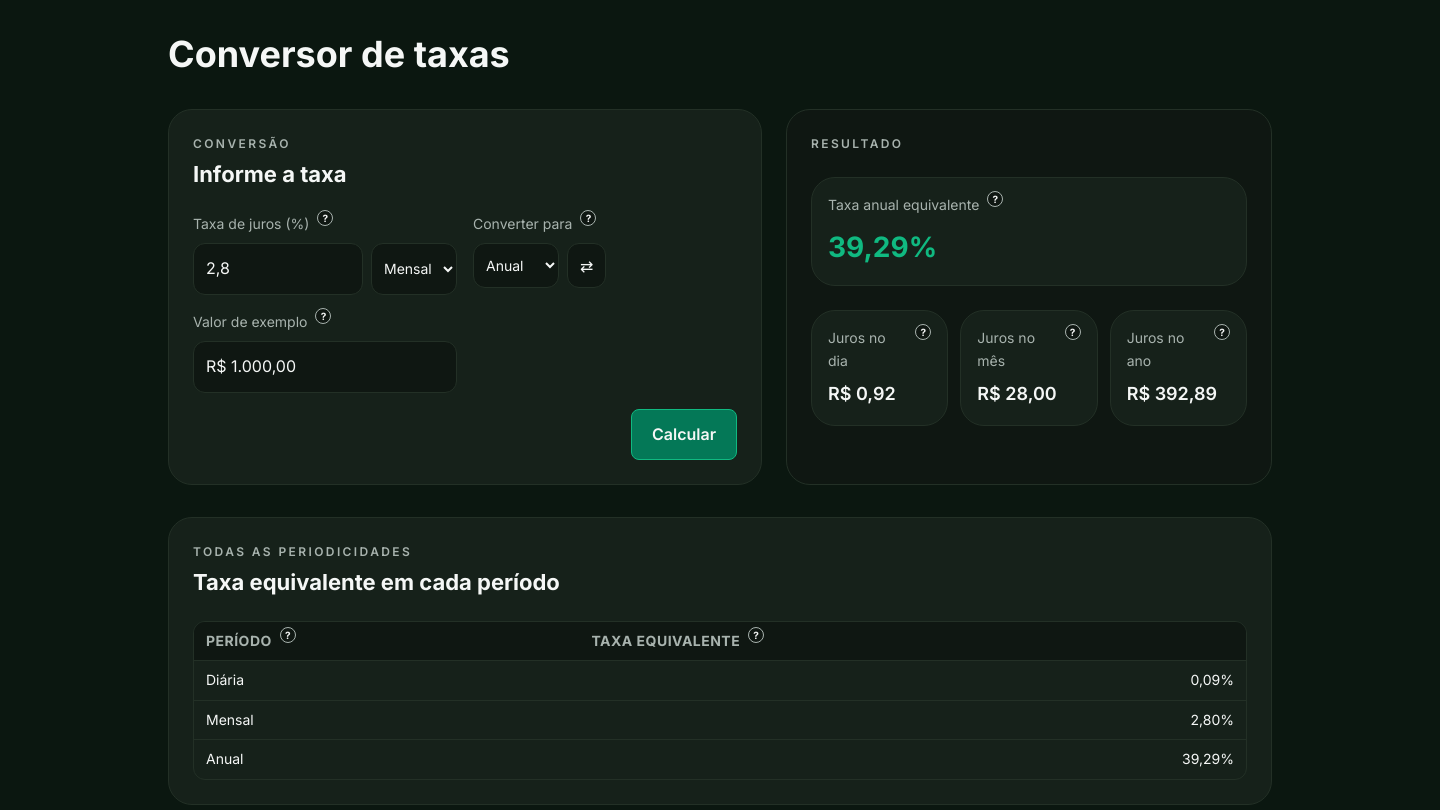
Test: RateConverter › updates example interest amounts only after clicking Calcular
Replace the text in the field labelled "Valor de exemplo" with "200000": [325, 367] box top-left (193, 341), bottom-right (457, 393)
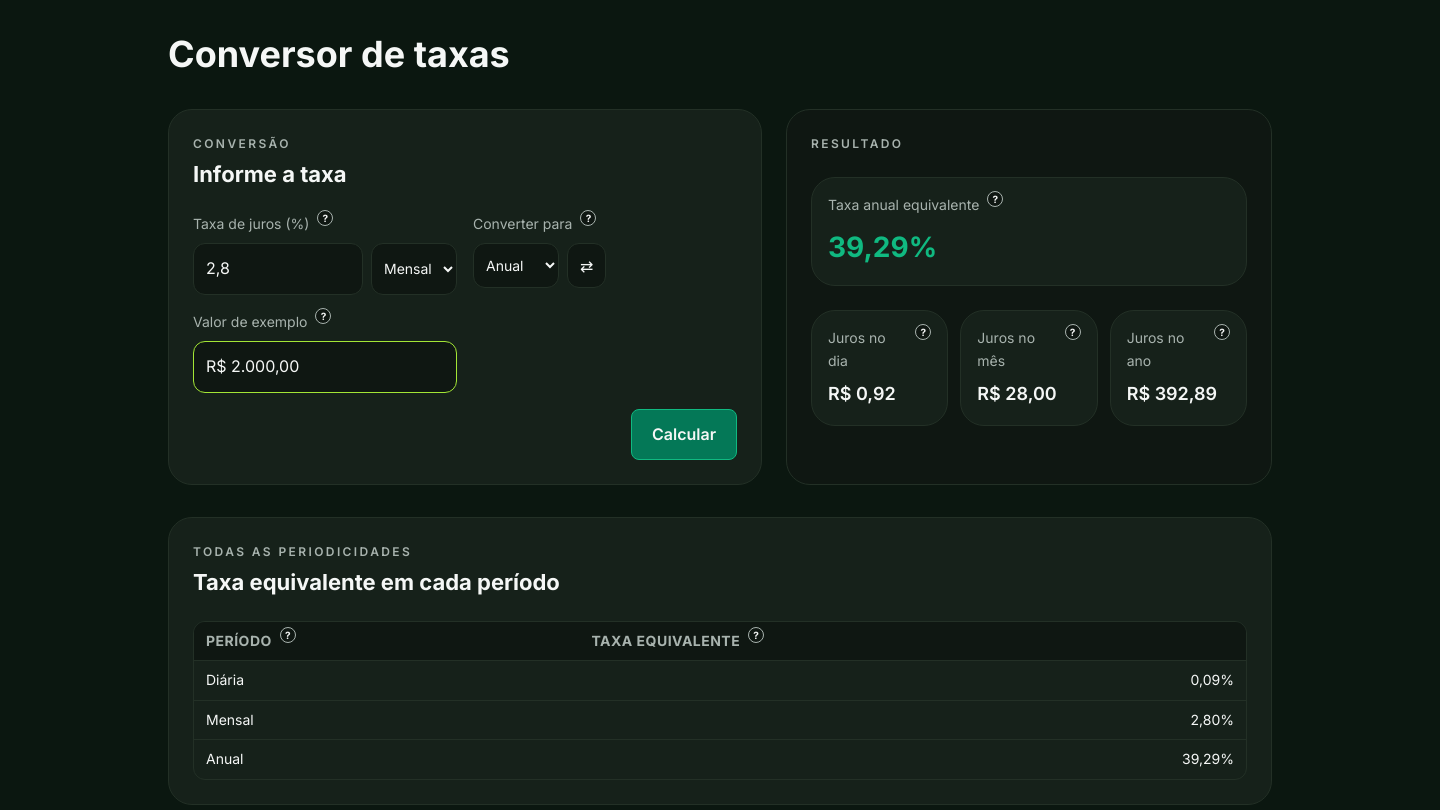
Expected: the text "R$ 392,89" is shown, top-left (1127, 380), bottom-right (1230, 409)
Click the button "Calcular": [684, 434] box top-left (631, 409), bottom-right (737, 460)
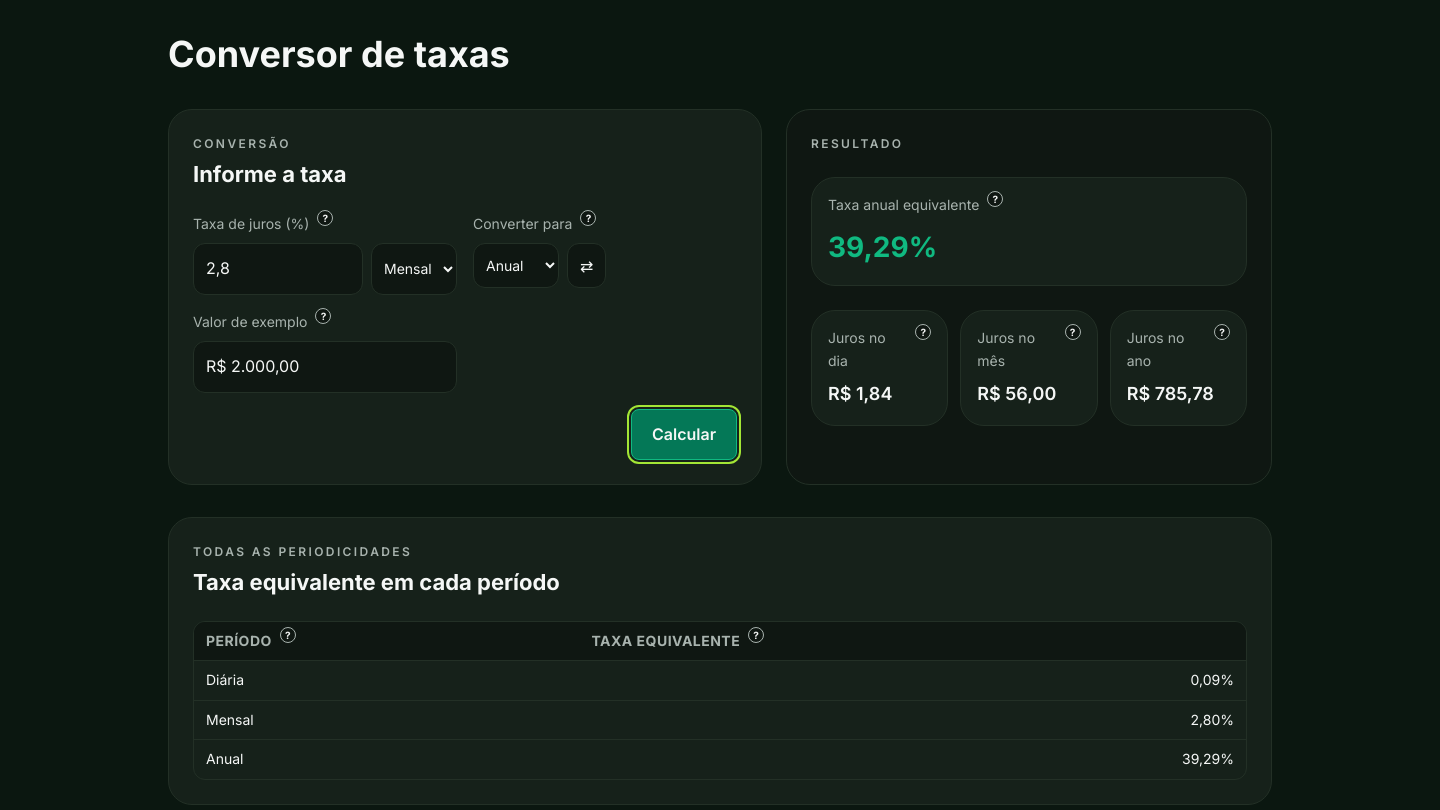
Expected: the text "R$ 785,78" is shown, top-left (1127, 383), bottom-right (1214, 404)
